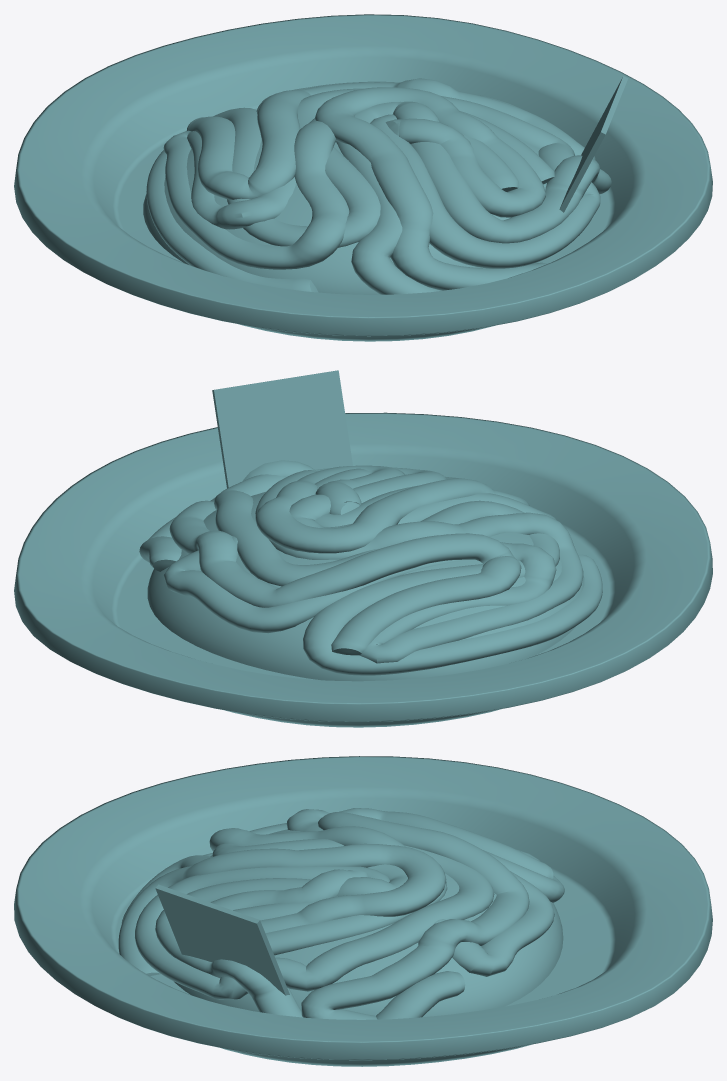
Rendered from SM_RAMEN_1.fbx.
The picture shows the model from 3 angles, top to bottom: view 1: azimuth 30°, elevation 25°; view 2: azimuth 150°, elevation 25°; view 3: azimuth 270°, elevation 25°; orthographic projection.
Parts seen in each view (by area): view 1: SM_RAMEN_1; view 2: SM_RAMEN_1; view 3: SM_RAMEN_1.
Boxes of the visible parts, left/top/right/bottom form: SM_RAMEN_1: left=14, top=14, right=712, bottom=341; SM_RAMEN_1: left=14, top=370, right=712, bottom=727; SM_RAMEN_1: left=14, top=756, right=712, bottom=1066.
Size of the model in its own units: 14.44 by 3.39 by 14.77.
